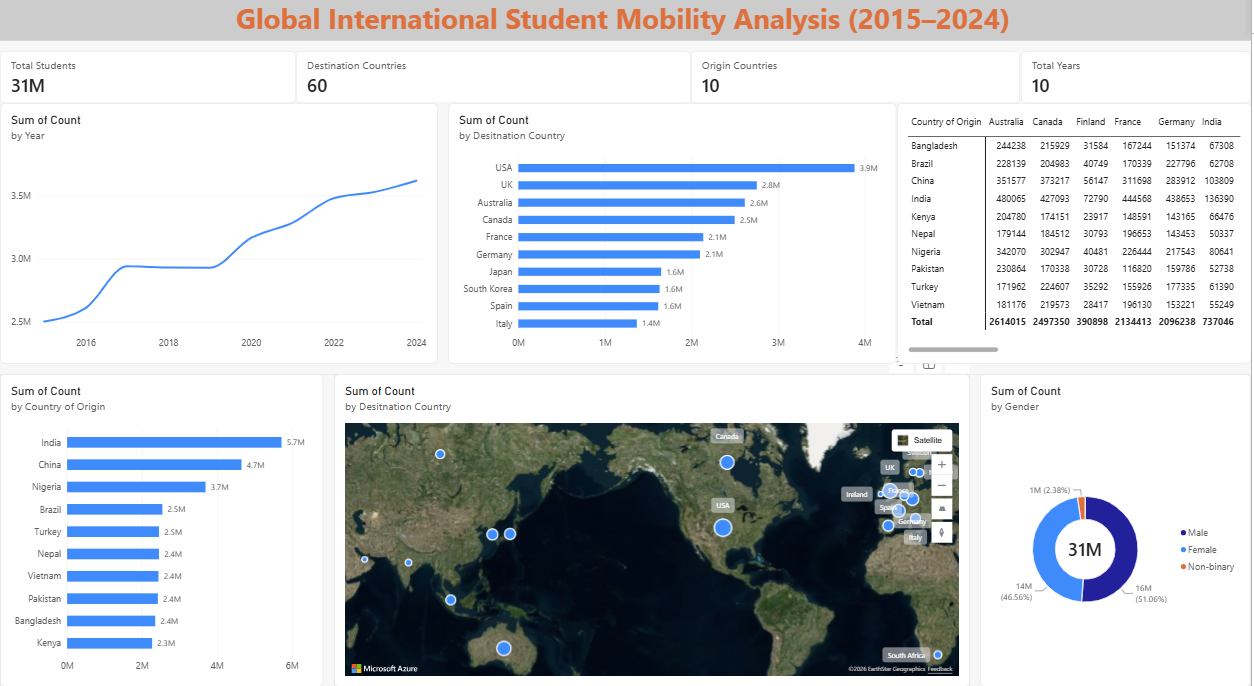

Layout of this report page (visuals, bound fields, positions):
{"tool":"powerbi","page":{"name":"Page 1","canvas":[1920,1080],"ordinal":0},"visuals":[{"type":"cardVisual","fields":{"Data":["International_Students-2015_202.Destination Countries"]},"box":[450.9,72,601.3,86.2],"z":0,"group":"g1"},{"type":"cardVisual","fields":{"Data":["International_Students-2015_202.Origin Countries"]},"box":[1052.2,72,501.1,86.2],"z":1000,"group":"g1"},{"type":"cardVisual","fields":{"Data":["International_Students-2015_202.Total Students"]},"box":[0,72,450.9,86.2],"z":2000,"group":"g1"},{"type":"cardVisual","fields":{"Data":["International_Students-2015_202.Total Years"]},"box":[1553.3,72,350.7,86.2],"z":3000,"group":"g1"},{"type":"lineChart","fields":{"Category":["International_Students-2015_202.Year"],"Y":["Sum(International_Students-2015_202.Count)"]},"box":[0,160,672,400],"z":4000,"group":"g3"},{"type":"clusteredBarChart","fields":{"Category":["International_Students-2015_202.Desitnation Country"],"Y":["Sum(International_Students-2015_202.Count)"]},"box":[688,160,688,400],"z":5000,"group":"g3"},{"type":"clusteredBarChart","fields":{"Category":["International_Students-2015_202.Country of Origin"],"Y":["Sum(International_Students-2015_202.Count)"]},"box":[0,576,496,480],"z":6000,"group":"g2"},{"type":"donutChart","fields":{"Category":["International_Students-2015_202.Gender"],"Y":["Sum(International_Students-2015_202.Count)"]},"box":[1504,576,416,480],"z":6001,"group":"g2"},{"type":"pivotTable","fields":{"Columns":["International_Students-2015_202.Desitnation Country"],"Rows":["International_Students-2015_202.Country of Origin"],"Values":["Sum(International_Students-2015_202.Count)"]},"box":[1376,160,544,400],"z":6002,"group":"g3"},{"type":"azureMap","fields":{"Category":["International_Students-2015_202.Desitnation Country"],"Size":["Sum(International_Students-2015_202.Count)"]},"box":[512,576,976,480],"z":6003,"group":"g2"},{"type":"group","id":"g1","title":"Group 1","box":[0,72,1904,86.2],"z":6004},{"type":"group","id":"g2","title":"Group 2","box":[0,576,1920,480],"z":6005},{"type":"group","id":"g3","title":"Group 3","box":[0,160,1920,400],"z":6006},{"type":"textbox","box":[0,0,1920,64],"z":6007}]}

Visuals, with their boxes in screenshot pixels (x1, y1, x2, y2), scaled from the page's 1920x1080 canvas onto the 1254x686 screenshot:
cardVisual - International_Students-2015_202.Destination Countries: [294, 46, 687, 100]
cardVisual - International_Students-2015_202.Origin Countries: [687, 46, 1014, 100]
cardVisual - International_Students-2015_202.Total Students: [0, 46, 294, 100]
cardVisual - International_Students-2015_202.Total Years: [1014, 46, 1244, 100]
lineChart - International_Students-2015_202.Year x Sum(International_Students-2015_202.Count): [0, 102, 439, 356]
clusteredBarChart - International_Students-2015_202.Desitnation Country x Sum(International_Students-2015_202.Count): [449, 102, 899, 356]
clusteredBarChart - International_Students-2015_202.Country of Origin x Sum(International_Students-2015_202.Count): [0, 366, 324, 671]
donutChart - International_Students-2015_202.Gender x Sum(International_Students-2015_202.Count): [982, 366, 1253, 671]
pivotTable - International_Students-2015_202.Desitnation Country x International_Students-2015_202.Country of Origin: [899, 102, 1253, 356]
azureMap - International_Students-2015_202.Desitnation Country x Sum(International_Students-2015_202.Count): [334, 366, 972, 671]
"Group 1" group: [0, 46, 1244, 100]
"Group 2" group: [0, 366, 1253, 671]
"Group 3" group: [0, 102, 1253, 356]
textbox: [0, 0, 1253, 41]
